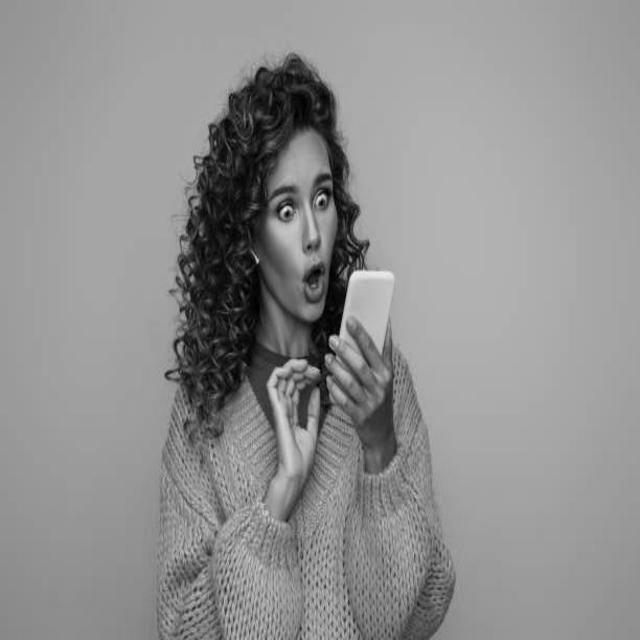Surprised: (271, 132, 336, 324)
